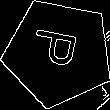P_E: (30, 30, 87, 76)
